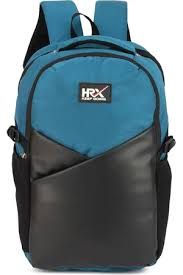backpack: (7, 0, 175, 272)
